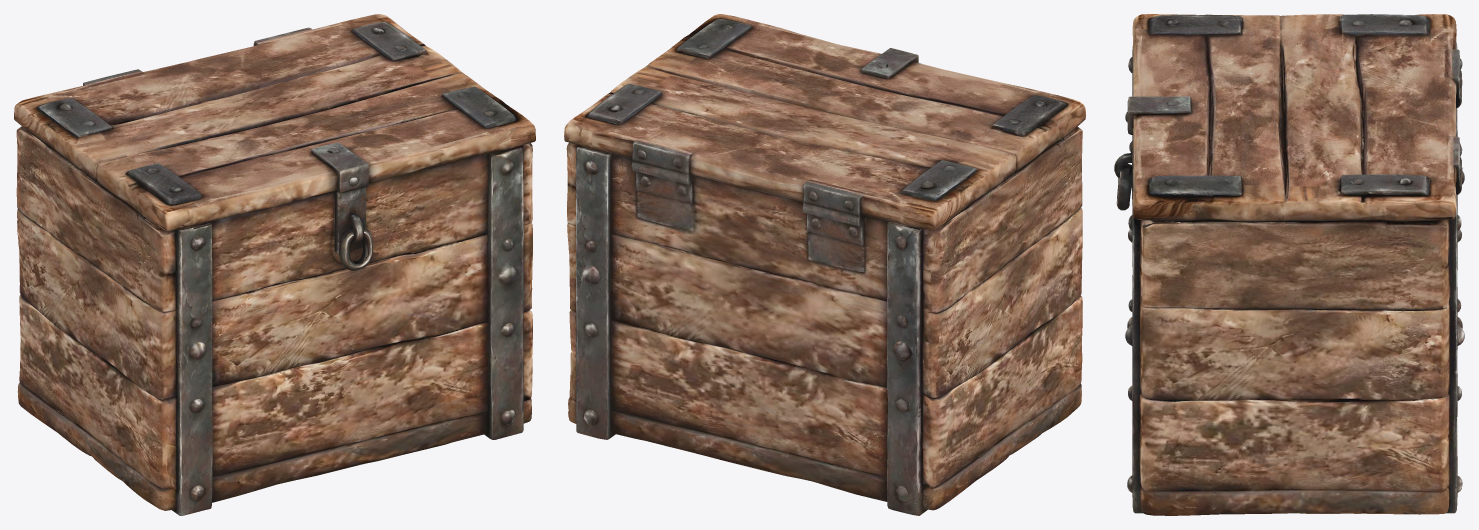
Rendered from bb_small_box.glb.
3 views of the same model, side by side, from view 1: azimuth 30°, elevation 25°; view 2: azimuth 150°, elevation 25°; view 3: azimuth 270°, elevation 25° (orthographic). The views are drawn at different scales.
Parts seen in each view (by area): view 1: bb_small_box; view 2: bb_small_box; view 3: bb_small_box.
Boxes of the visible parts, x1=… form: bb_small_box: x1=14, y1=14, x2=535, y2=515; bb_small_box: x1=564, y1=14, x2=1085, y2=515; bb_small_box: x1=1114, y1=14, x2=1464, y2=515.
Size of the model in its own units: 1.9 by 1.51 by 1.47.
Materials: 1 (1 with a texture image).
